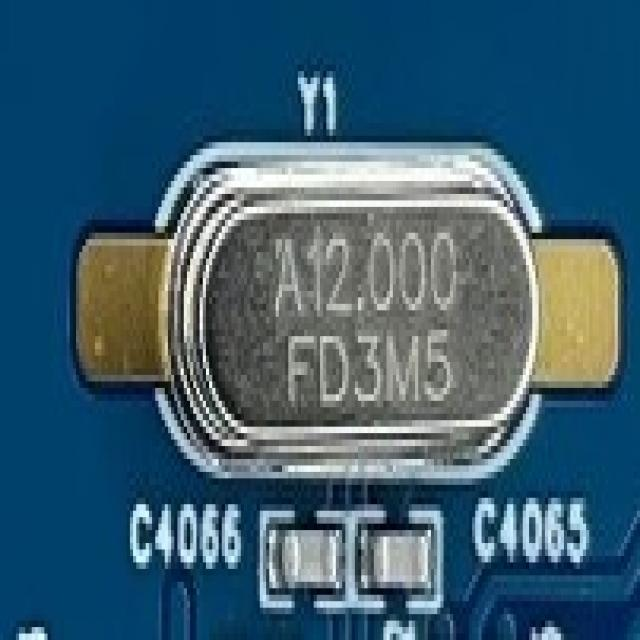capacitor 1V5: (274, 524, 348, 589), (366, 526, 431, 588)
clock Q1: (147, 155, 542, 466)
